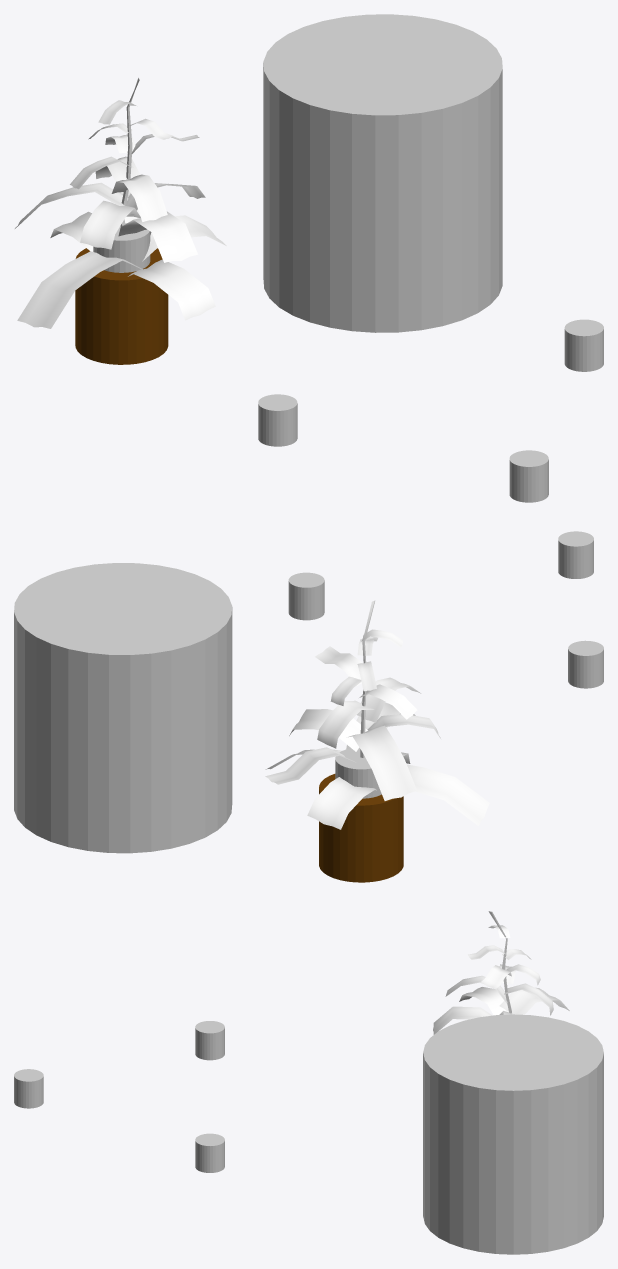
File: plants.glb
3 views of the same model, one above another, from view 1: azimuth 30°, elevation 25°; view 2: azimuth 150°, elevation 25°; view 3: azimuth 270°, elevation 25° (orthographic). The views are drawn at different scales.
Visible parts, largest first — view 1: Cylinder.010, plant3, Cylinder.012, Cylinder.001, Cylinder.004, Cylinder.007, Cylinder.013; view 2: Cylinder.010, plant3, Cylinder.012, Cylinder.007, Cylinder.001, Cylinder.004, Cylinder.013; view 3: Cylinder.010, plant3, Cylinder.007, Cylinder.001, Cylinder.004.
Part boxes in pixels (<box>): Cylinder.010: <box>263,14,502,332</box>; plant3: <box>15,78,226,328</box>; Cylinder.012: <box>75,248,168,364</box>; Cylinder.001: <box>258,394,297,446</box>; Cylinder.004: <box>509,450,548,502</box>; Cylinder.007: <box>564,319,603,371</box>; Cylinder.013: <box>93,223,150,272</box>; Cylinder.010: <box>14,563,232,853</box>; plant3: <box>265,600,489,829</box>; Cylinder.012: <box>319,774,403,882</box>; Cylinder.007: <box>288,572,324,620</box>; Cylinder.001: <box>568,640,603,688</box>; Cylinder.004: <box>558,531,593,578</box>; Cylinder.013: <box>335,749,381,798</box>; Cylinder.010: <box>423,1014,603,1254</box>; plant3: <box>433,911,569,1034</box>; Cylinder.007: <box>195,1133,224,1172</box>; Cylinder.001: <box>195,1021,224,1060</box>; Cylinder.004: <box>14,1069,43,1108</box>.
Bounding box in the file's own units: 17.35 × 9.57 × 24.41.
